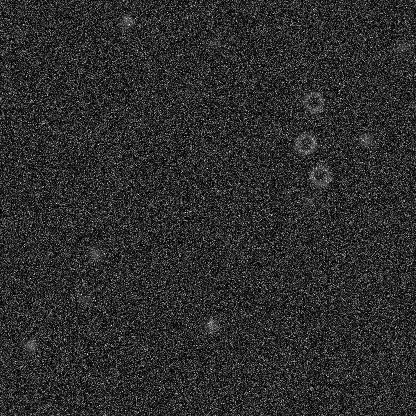Ring: (293, 131, 317, 155), (308, 163, 332, 187), (301, 89, 325, 113)
Spot: (300, 192, 316, 208), (357, 131, 373, 147), (392, 39, 408, 55), (75, 291, 91, 307), (87, 245, 103, 261), (203, 317, 219, 333), (206, 34, 222, 50), (118, 13, 134, 29), (12, 27, 28, 43), (22, 337, 38, 353)
